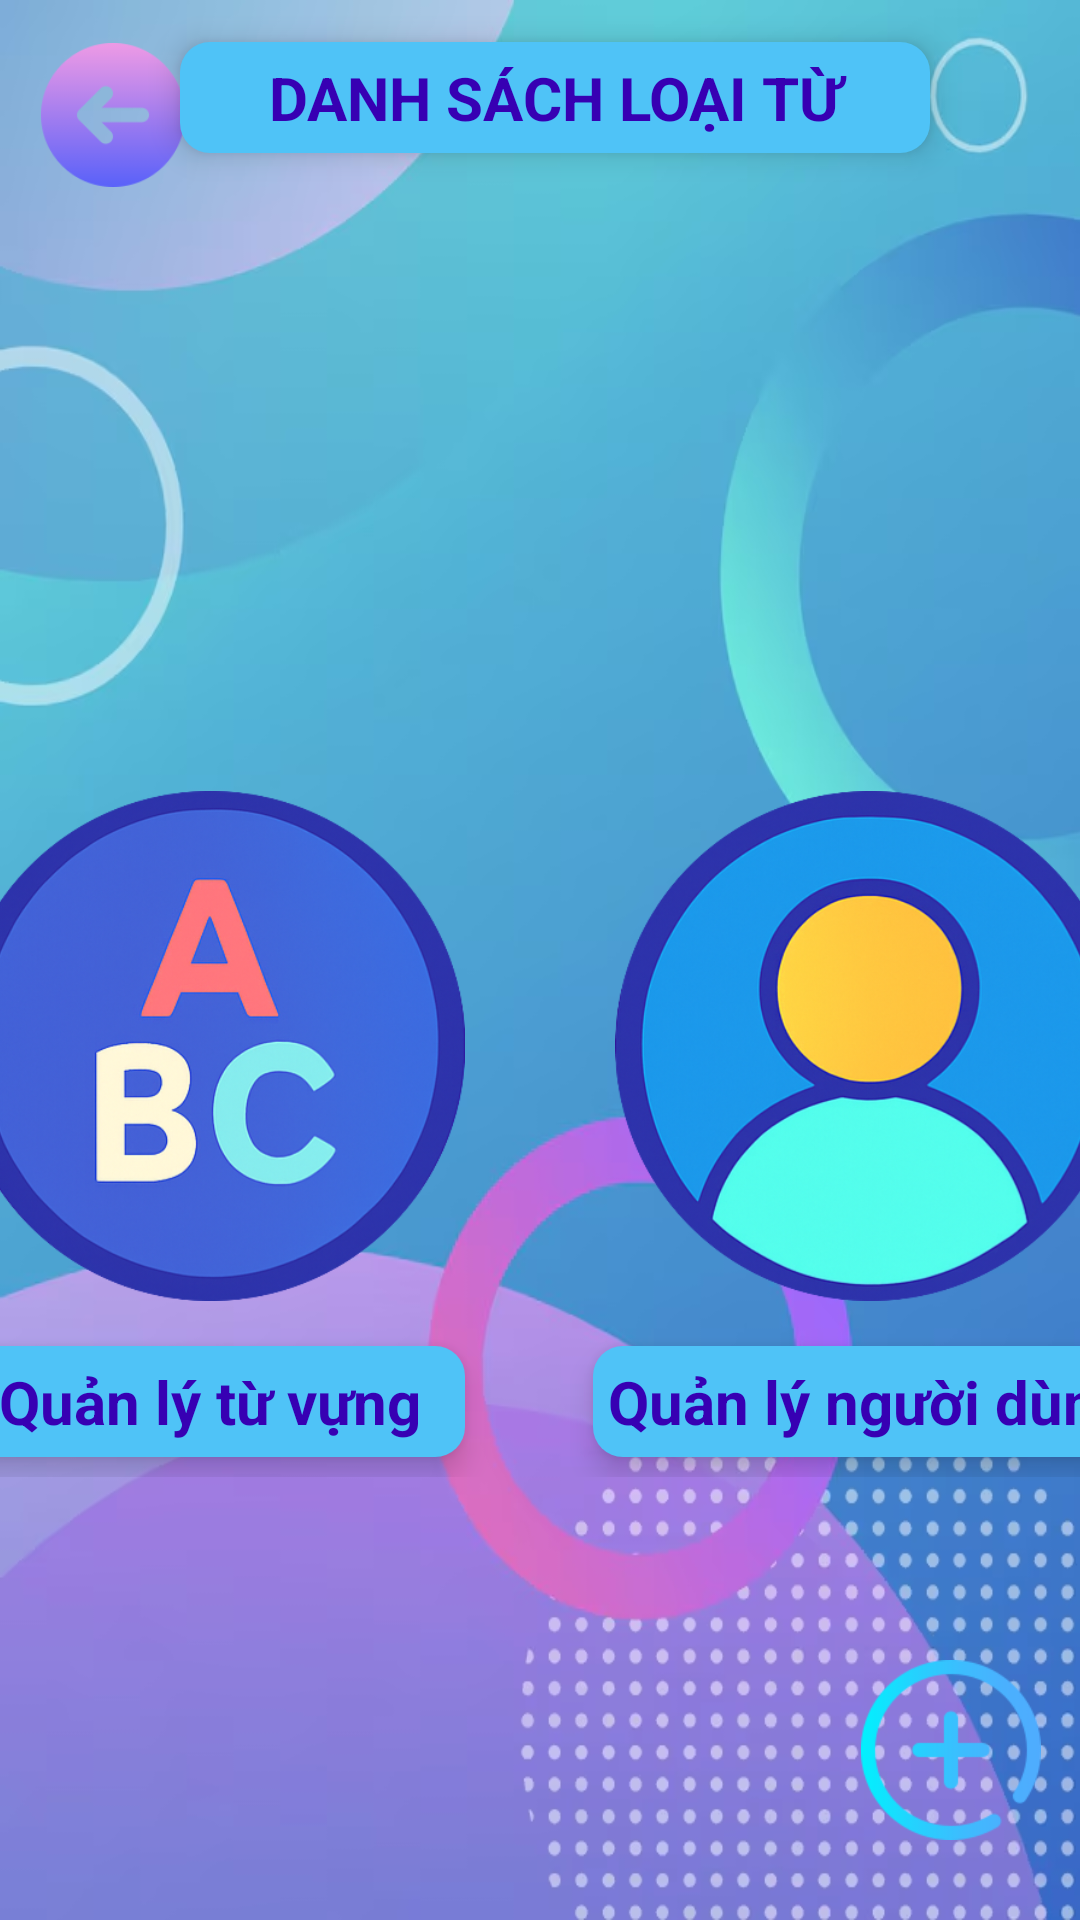

Icons on this 1080w x 1920h Android screen, each with the point to tap as [x,y]:
Thêm loại: [951,1750]
Trở về: [113,115]
